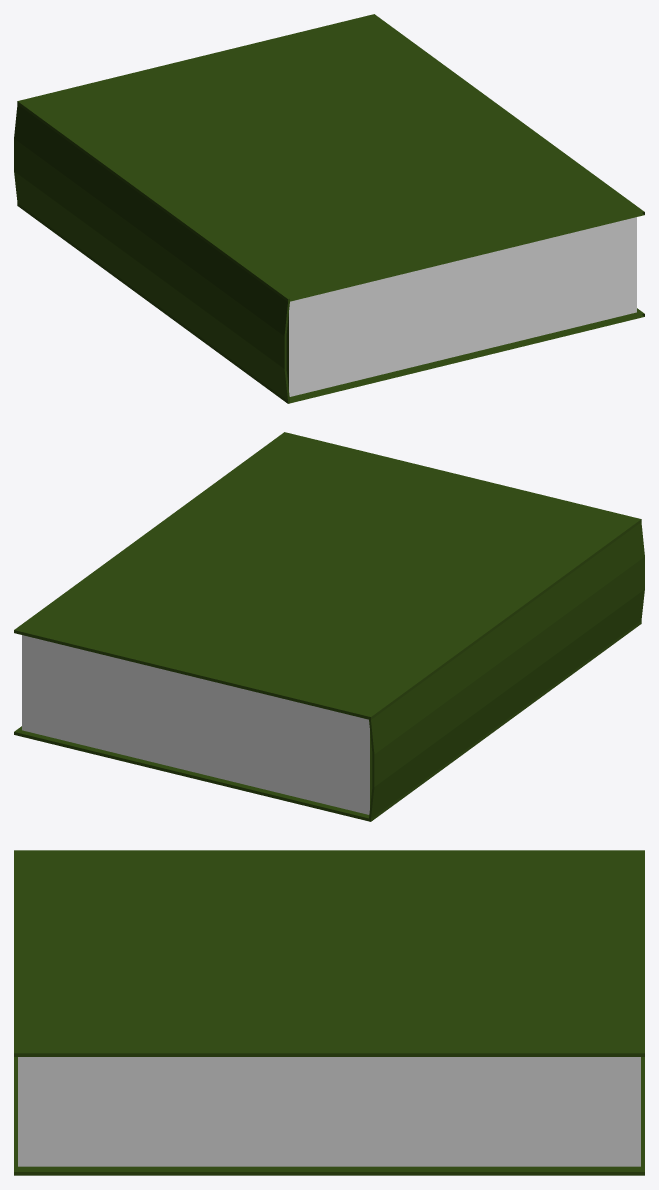
File: book_closed.glb
The picture shows the model from 3 angles, top to bottom: view 1: azimuth 30°, elevation 25°; view 2: azimuth 150°, elevation 25°; view 3: azimuth 270°, elevation 25°; orthographic projection. The views are drawn at different scales.
Parts seen in each view (by area): view 1: Book; view 2: Book; view 3: Book.
Boxes of the visible parts, box(x1,y1,x2,y2) form: Book: box(14, 14, 644, 403); Book: box(14, 432, 644, 821); Book: box(14, 850, 644, 1175).
Size of the model in its own units: 0.6153 by 0.1709 by 0.8.
